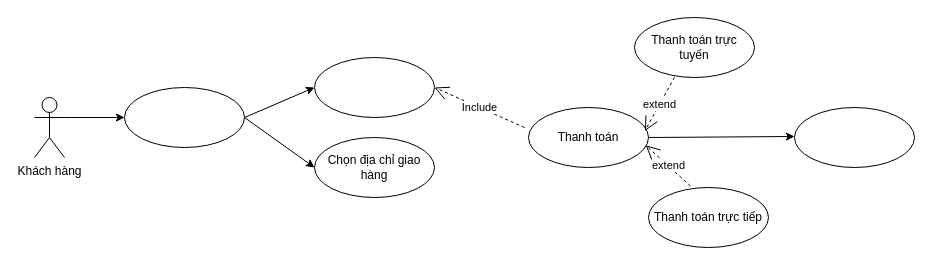
Some shapes in this 932 by 265 pixel diagram are drawn without their labels. The shapes that lost their labels are listed below. From the top down, each one's centre as x and y in pixels, then its label:
point (374, 87): Chọn món ăn
point (184, 117): Xem menu
point (854, 137): Đặt hàng
